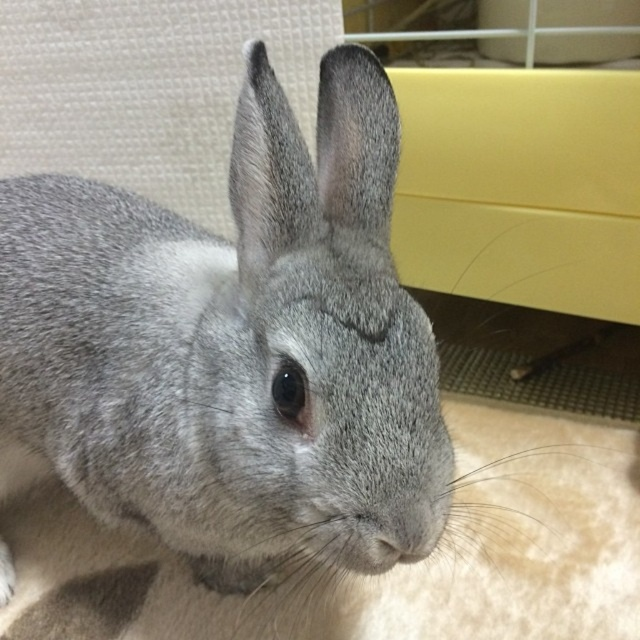Rabbit: (0, 32, 635, 639)
